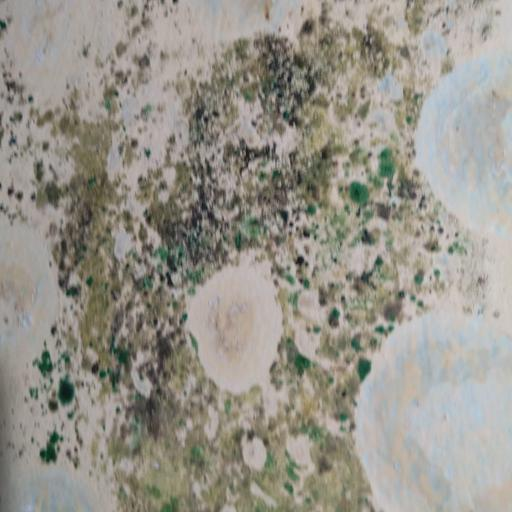algae: (17, 23, 478, 512)
